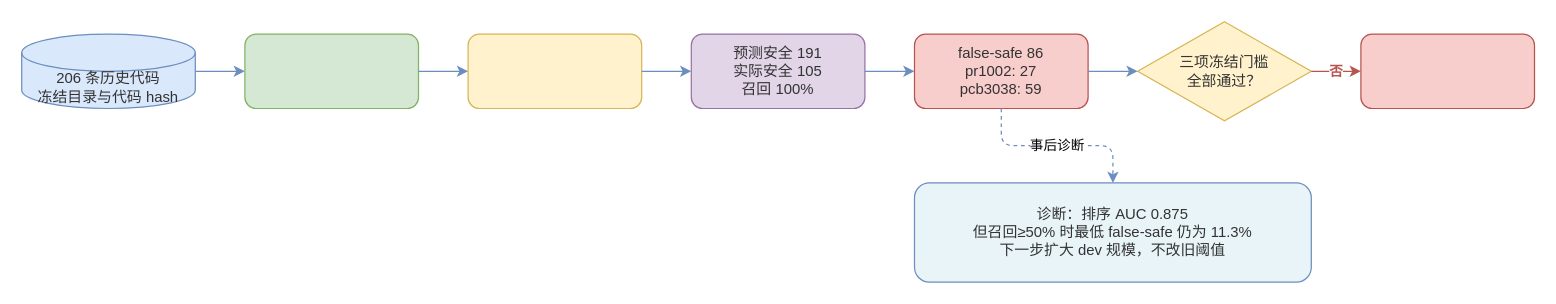
Image size: 1556x304. Some labels were removed from this diagram. The shapes that lost their labels are listed below. From the top down, each one's box as (x1, y1, x2, y2) in pixels, then its label:
(244, 33, 418, 108): 合成 dev 探针 n=120/160/200 618/618 完成
(467, 33, 642, 108): 先冻结预测 SHA-256 锁定 再读取标签
(1360, 33, 1534, 108): 否：不冻结 2+4 Stage AU 为确认性负结果
